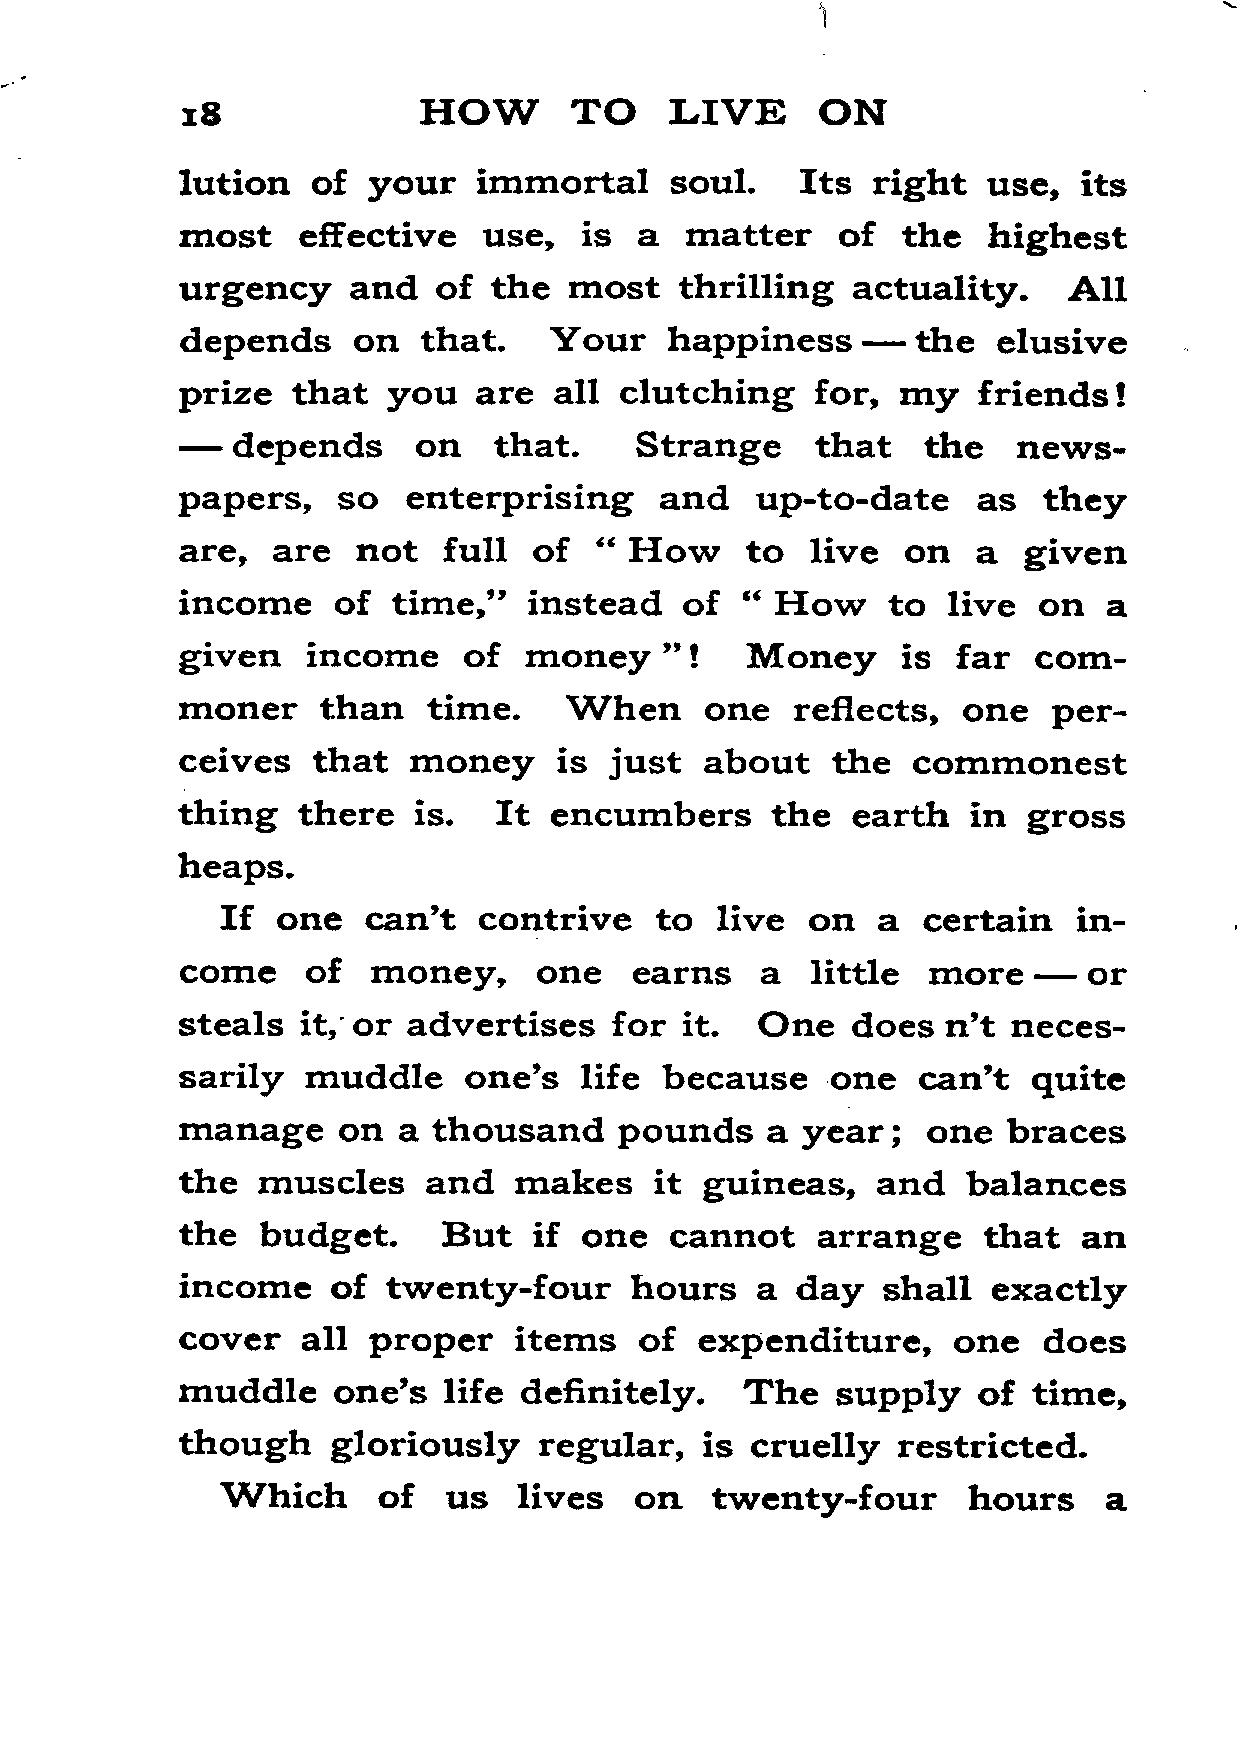content: (172, 160, 1134, 1518)
content_chapter: (416, 93, 888, 132)
content_pagenumber: (174, 98, 227, 132)
